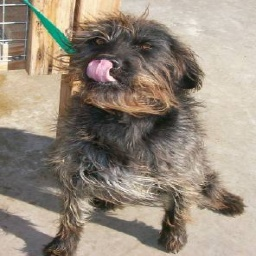dog: (39, 7, 242, 255)
